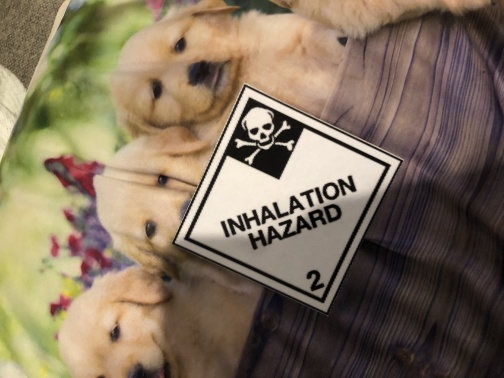InhalationHazard: (172, 83, 404, 315)
